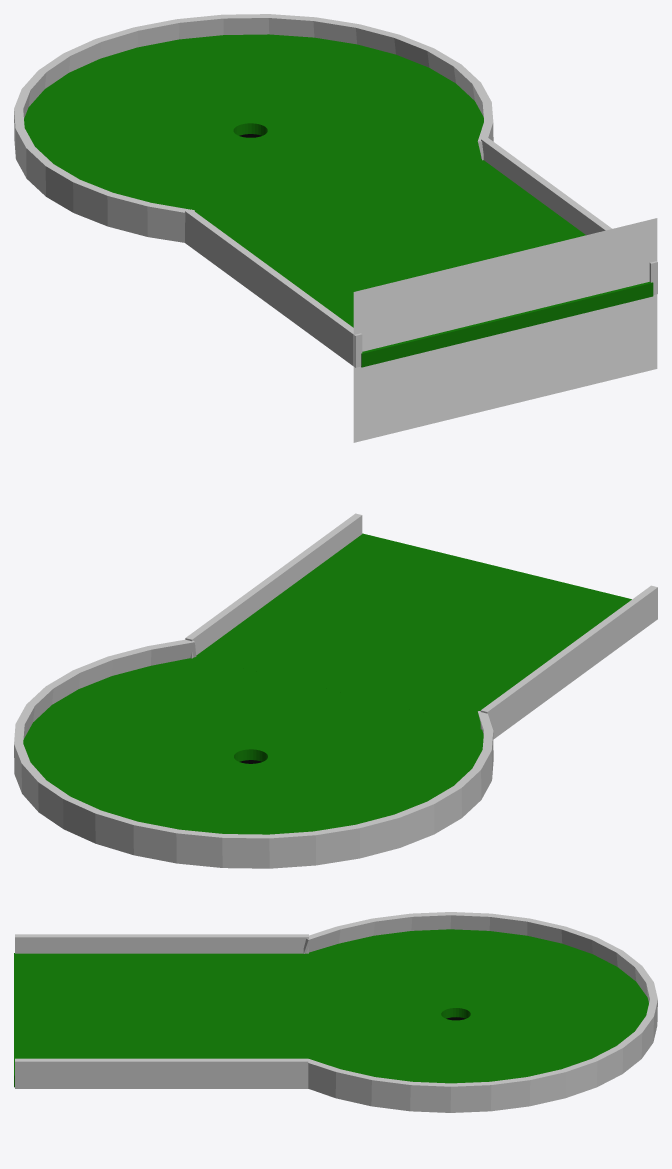
Rendered from round_end.gltf.
The picture shows the model from 3 angles, top to bottom: view 1: azimuth 30°, elevation 25°; view 2: azimuth 150°, elevation 25°; view 3: azimuth 270°, elevation 25°; orthographic projection. The views are drawn at different scales.
Visible parts, largest first — view 1: Circle, obj_snap, Cube, Cube.001, Cube.002; view 2: Circle, Cube, Cube.001, Cube.002; view 3: Circle, Cube, Cube.002, Cube.001.
Boxes of the visible parts, bbox=[...] form: Circle: bbox=[14, 14, 493, 242]; obj_snap: bbox=[353, 218, 657, 442]; Cube: bbox=[214, 160, 653, 367]; Cube.001: bbox=[185, 209, 362, 367]; Cube.002: bbox=[481, 137, 657, 294]; Circle: bbox=[14, 639, 493, 868]; Cube: bbox=[196, 533, 631, 726]; Cube.001: bbox=[480, 585, 657, 739]; Cube.002: bbox=[185, 513, 362, 658]; Circle: bbox=[303, 912, 657, 1112]; Cube: bbox=[14, 953, 303, 1087]; Cube.002: bbox=[15, 1058, 308, 1088]; Cube.001: bbox=[15, 934, 308, 953].
Bounding box in the file's own units: 5.77 × 2 × 8.98.
